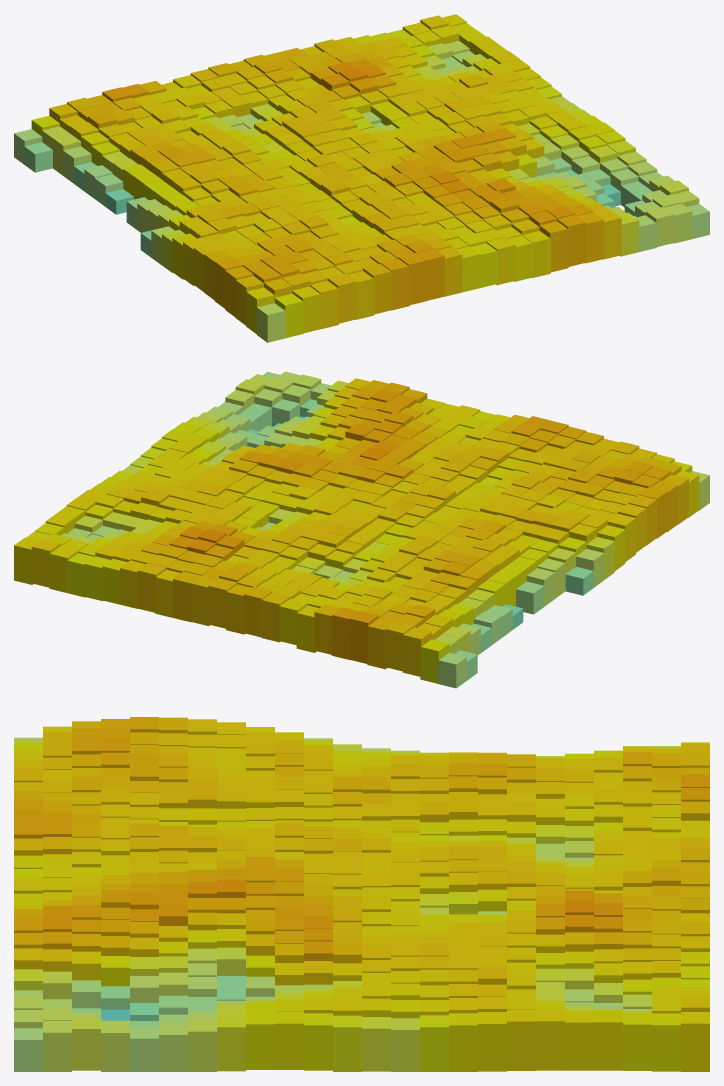
File: population.glb
3 views of the same model, one above another, from view 1: azimuth 30°, elevation 25°; view 2: azimuth 150°, elevation 25°; view 3: azimuth 270°, elevation 25° (orthographic). The views are drawn at different scales.
Visible parts, largest first — view 1: population; view 2: population; view 3: population.
Part boxes in pixels (x1,y1,x2,y2): population: (14,14,709,342); population: (14,371,709,688); population: (14,717,709,1071).
Size of the model in its own units: 2405 by 251 by 2387.
